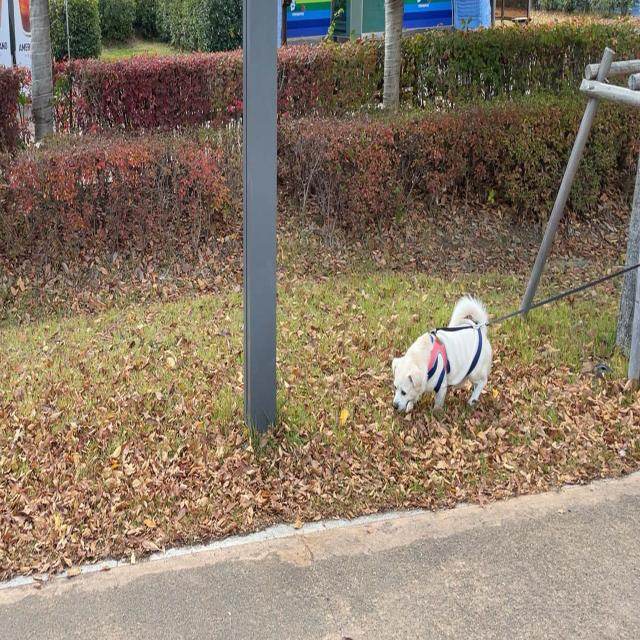Dog: (391, 294, 493, 418)
